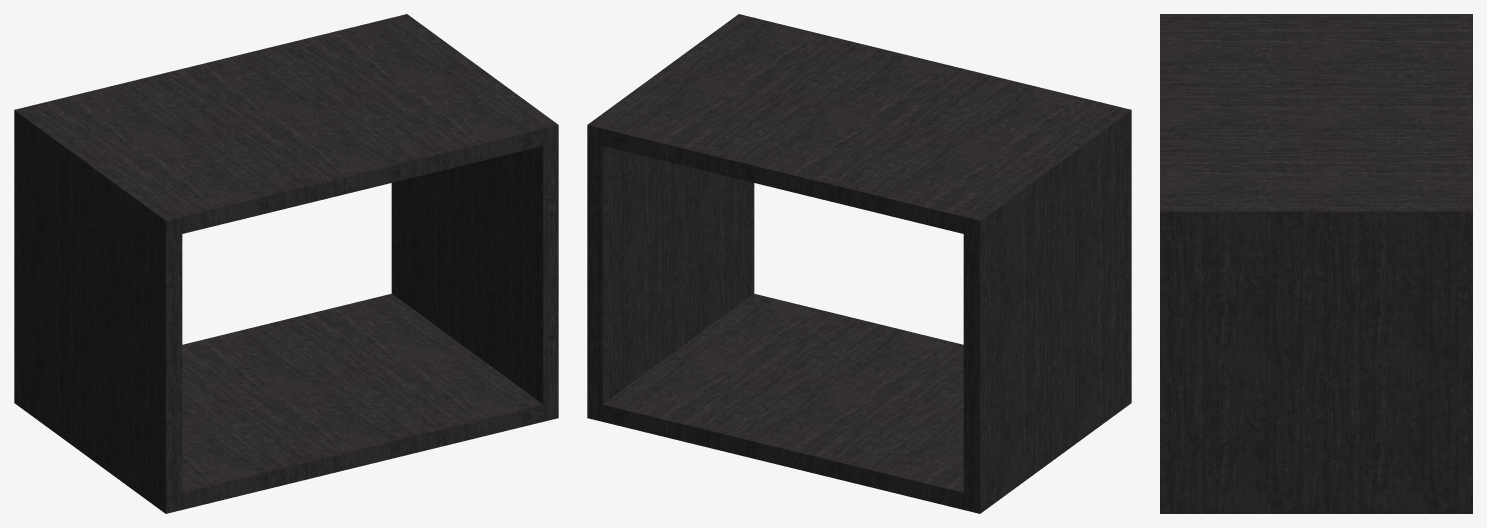
Rendered from brbasetunnelextension.fbx.
3 renders of one model, left to right at view 1: azimuth 30°, elevation 25°; view 2: azimuth 150°, elevation 25°; view 3: azimuth 270°, elevation 25°, orthographic. The views are drawn at different scales.
Parts seen in each view (by area): view 1: Object; view 2: Object; view 3: Object.
Boxes of the visible parts, x1,y1,x2,y2 form: Object: [14, 14, 558, 513]; Object: [587, 14, 1131, 513]; Object: [1160, 14, 1472, 513].
Bounding box in the file's own units: 2394 × 1706 × 1600.
